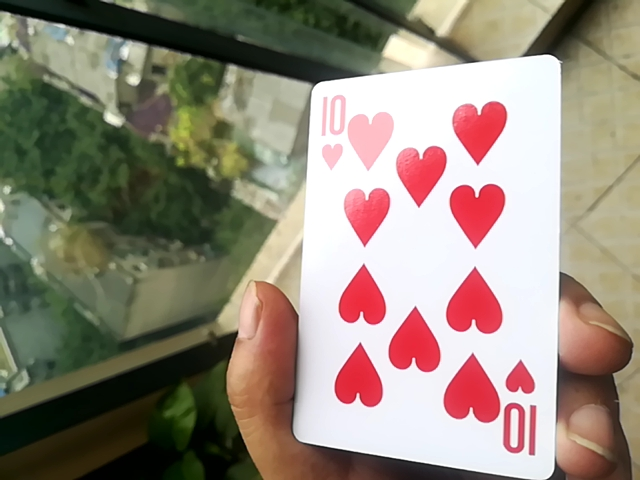hx 10: (295, 56, 565, 480)
